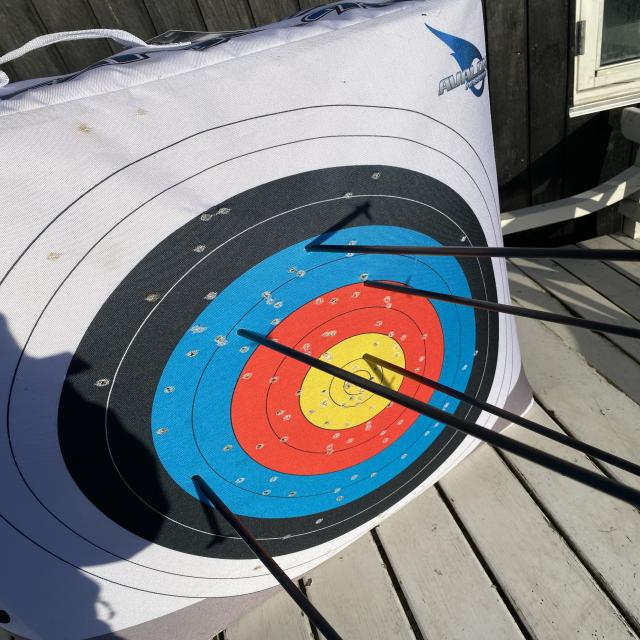Arrow_Blue: (220, 321, 303, 362), (164, 458, 235, 496), (295, 230, 339, 264)
Arrow_Red: (356, 264, 442, 311)
Arrow_Yellow: (348, 334, 412, 386)
